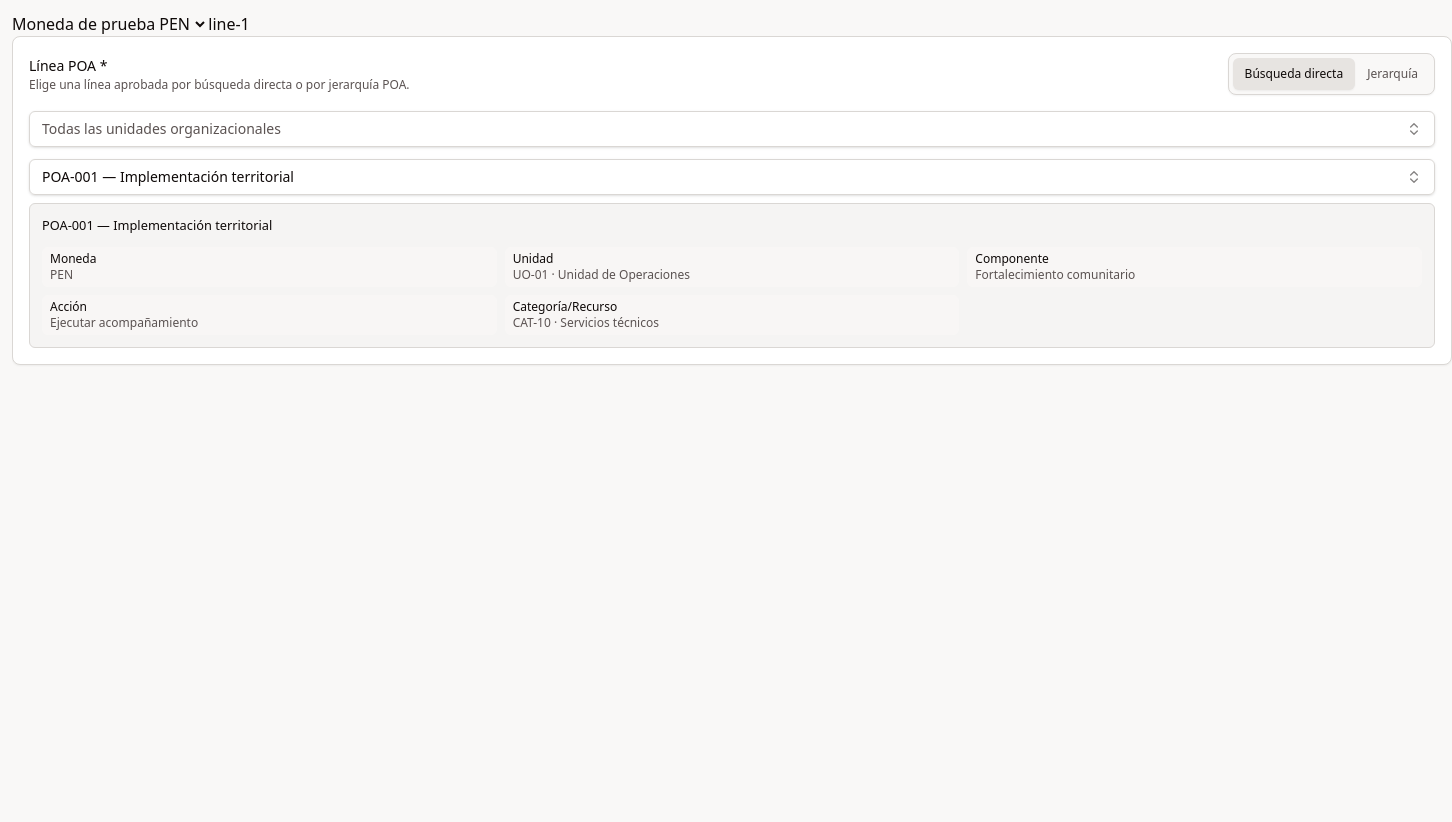
Test: PlanningLineSelector › envía la unidad seleccionada como jerarquía de descendientes y conserva directo multiunidad por defecto
The image size is (1452, 822).
Click the tab "Jerarquía" at (1393, 74), box top-left (1355, 58), bottom-right (1430, 90)
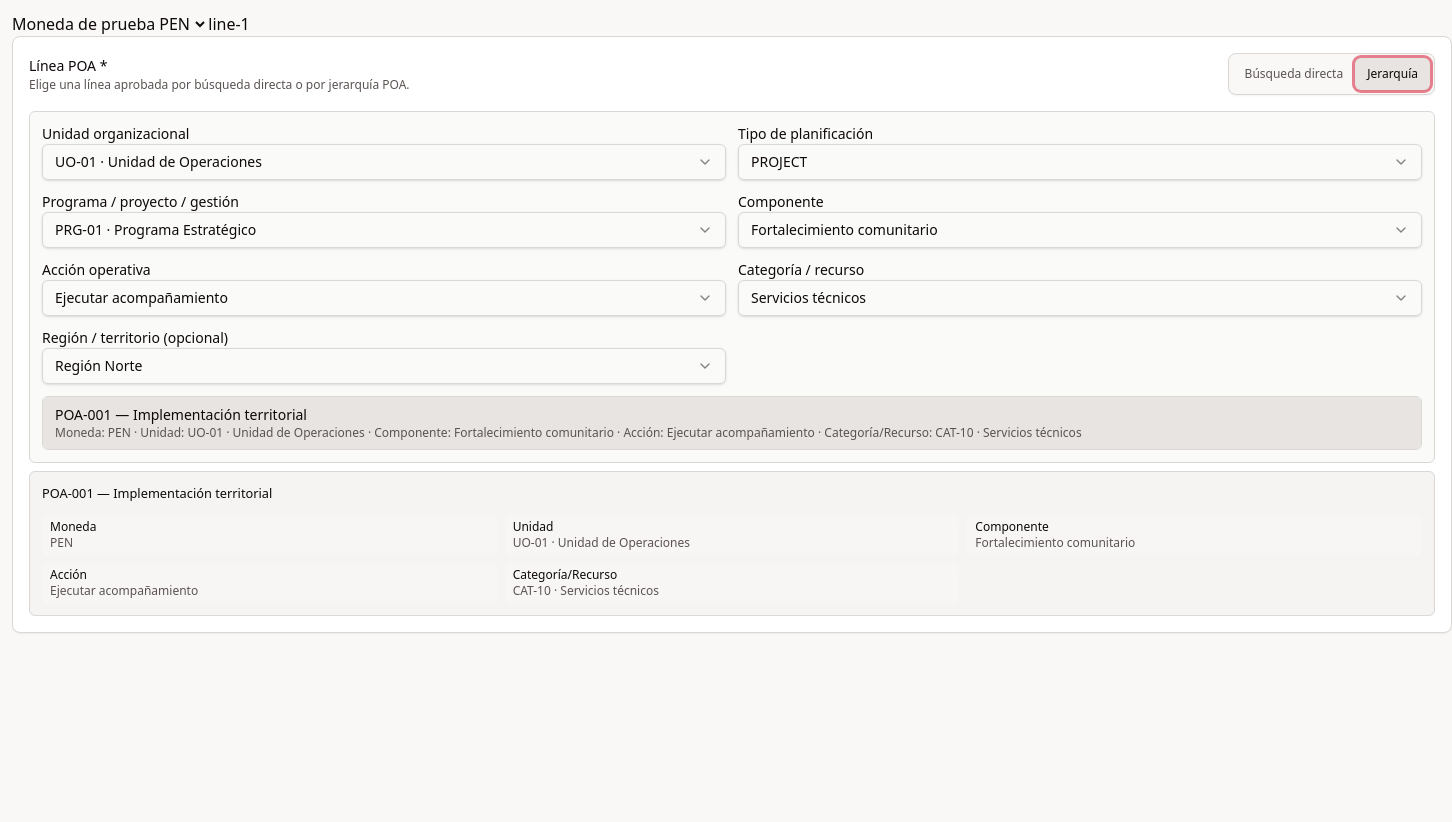
Result: the text "Unidad organizacional" is shown at top-left (42, 124), bottom-right (189, 143)
